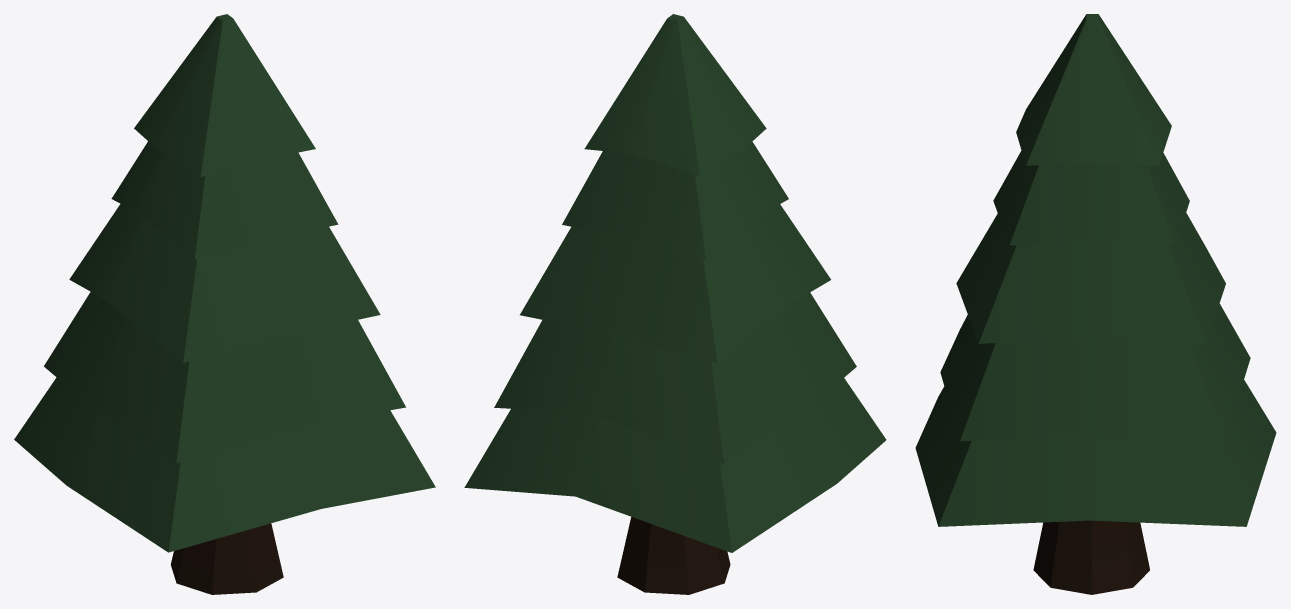
The model's file is Tree1.fbx.
The picture shows the model from 3 angles, left to right: view 1: azimuth 30°, elevation 25°; view 2: azimuth 150°, elevation 25°; view 3: azimuth 270°, elevation 25°; orthographic projection.
Parts seen in each view (by area): view 1: pCube7; view 2: pCube7; view 3: pCube7.
Part boxes in pixels (x1,y1,x2,y2): pCube7: [14, 14, 435, 594]; pCube7: [464, 14, 886, 594]; pCube7: [915, 14, 1276, 594].
Bounding box in the file's own units: 13.28 × 22.18 × 13.13.
